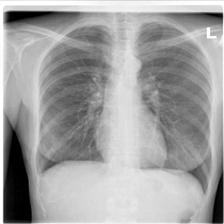tuberculosis: (31, 20, 218, 199)
